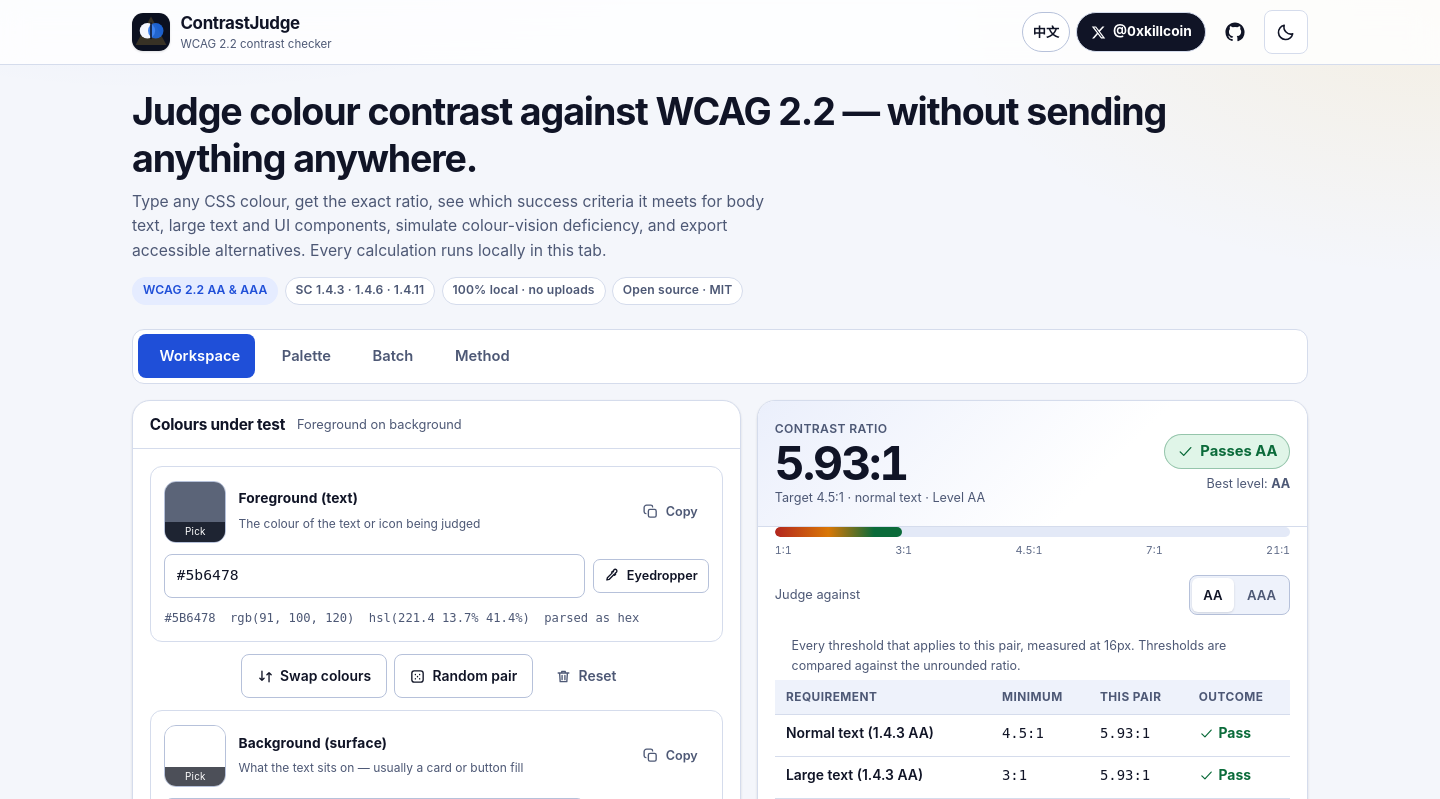
it: palette, export and batch tabs › reports skipped lines in the batch input
Click the tab "Batch": (390, 356) [351, 334, 429, 378]
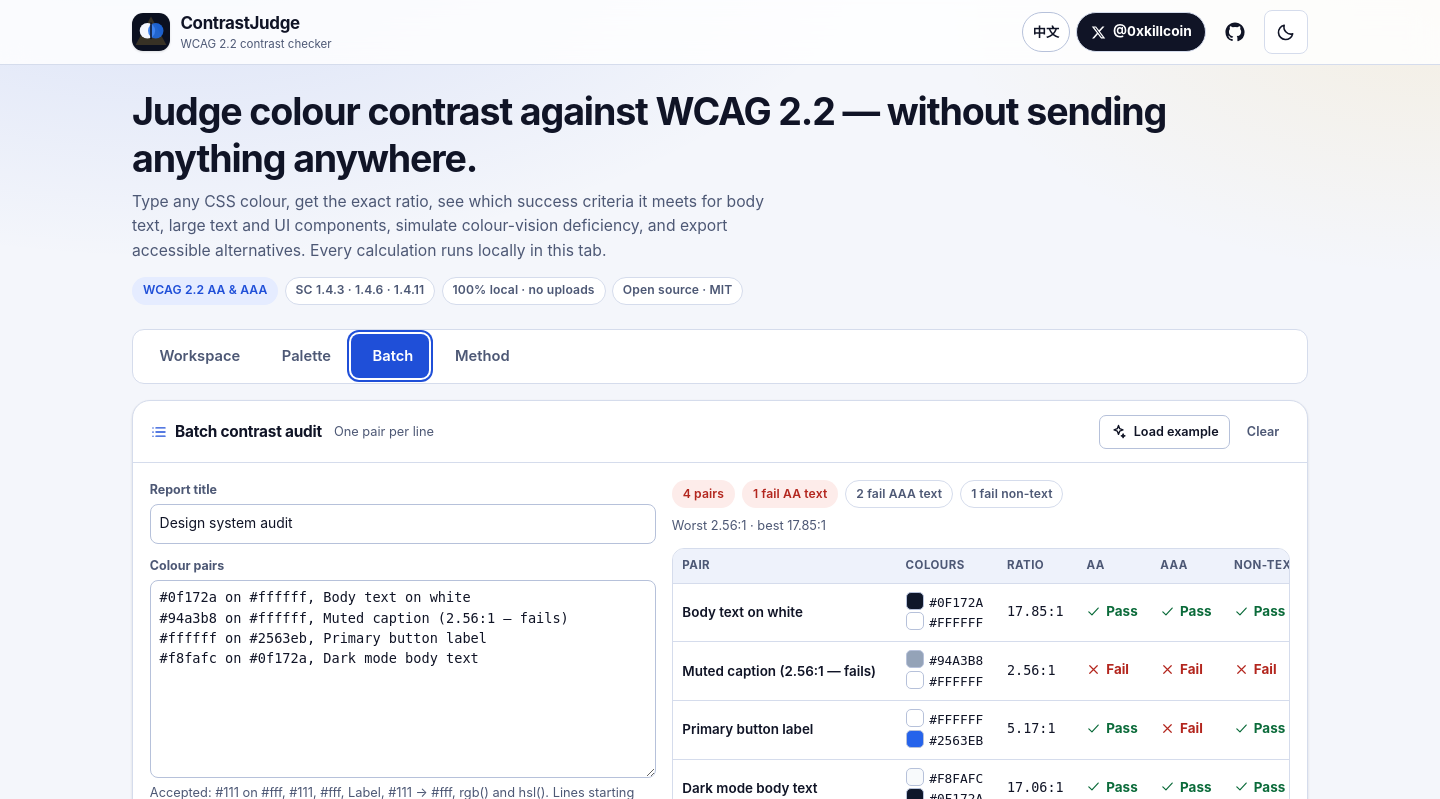
Replace the text in the text box labelled "Colour pairs" with "#fff on #000": (403, 679) [150, 580, 656, 778]
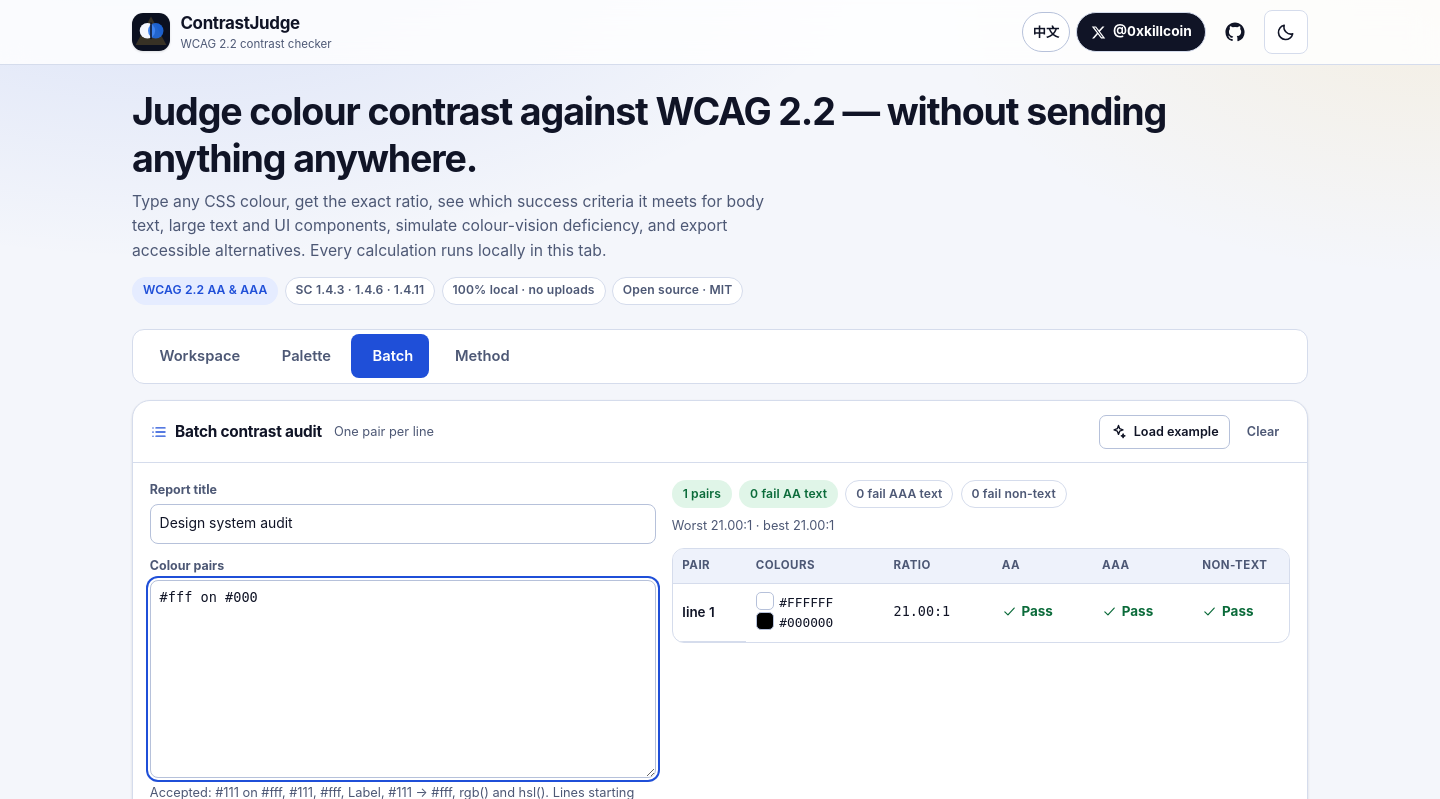
Press Enter
In the text box labelled "Colour pairs": (403, 679) [150, 580, 656, 778], type "nonsense-line"
(page scrolled)
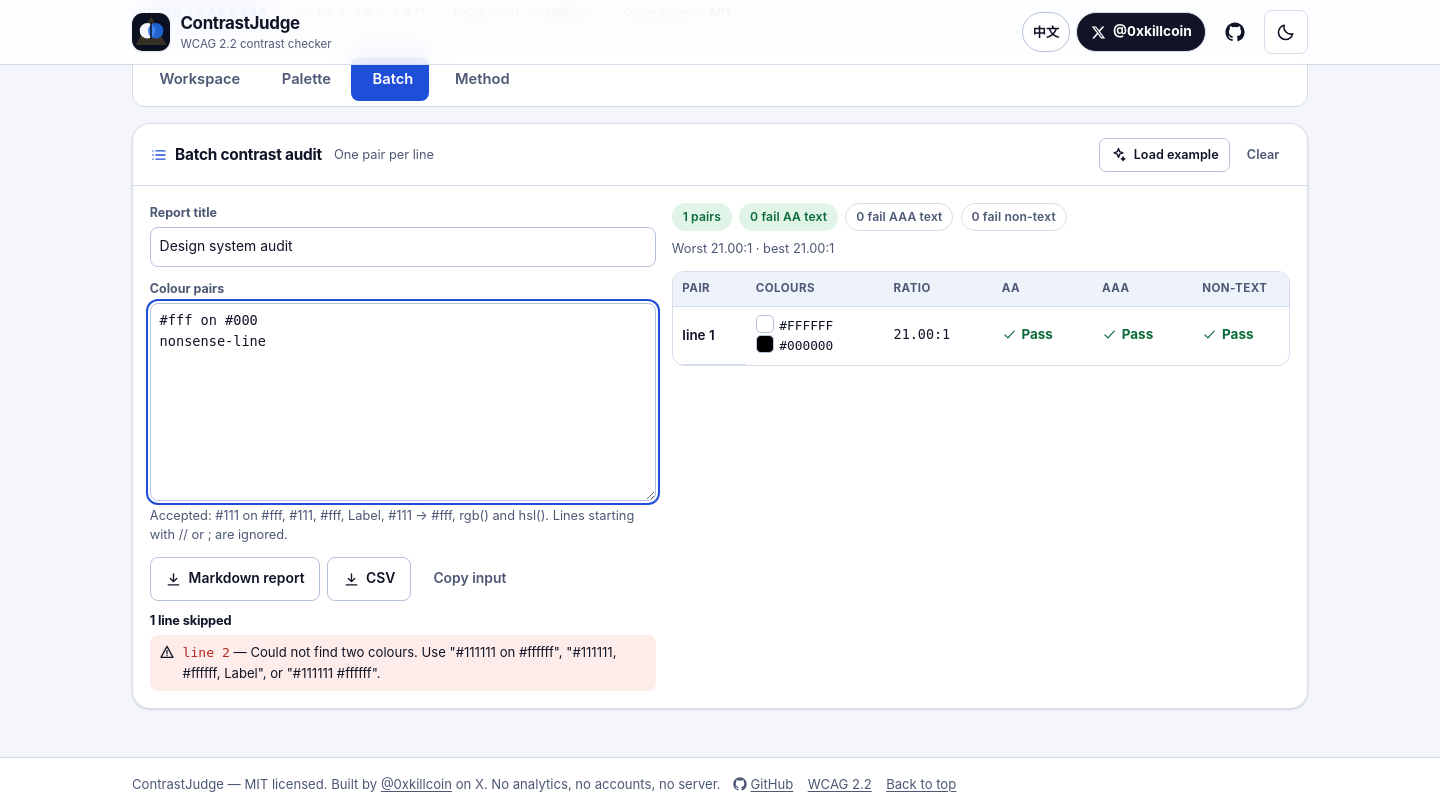
Expected: the heading "1 line skipped" is shown, [150, 613, 231, 628]
Expected: the text "Could not find two colours" is shown, [183, 644, 616, 681]
